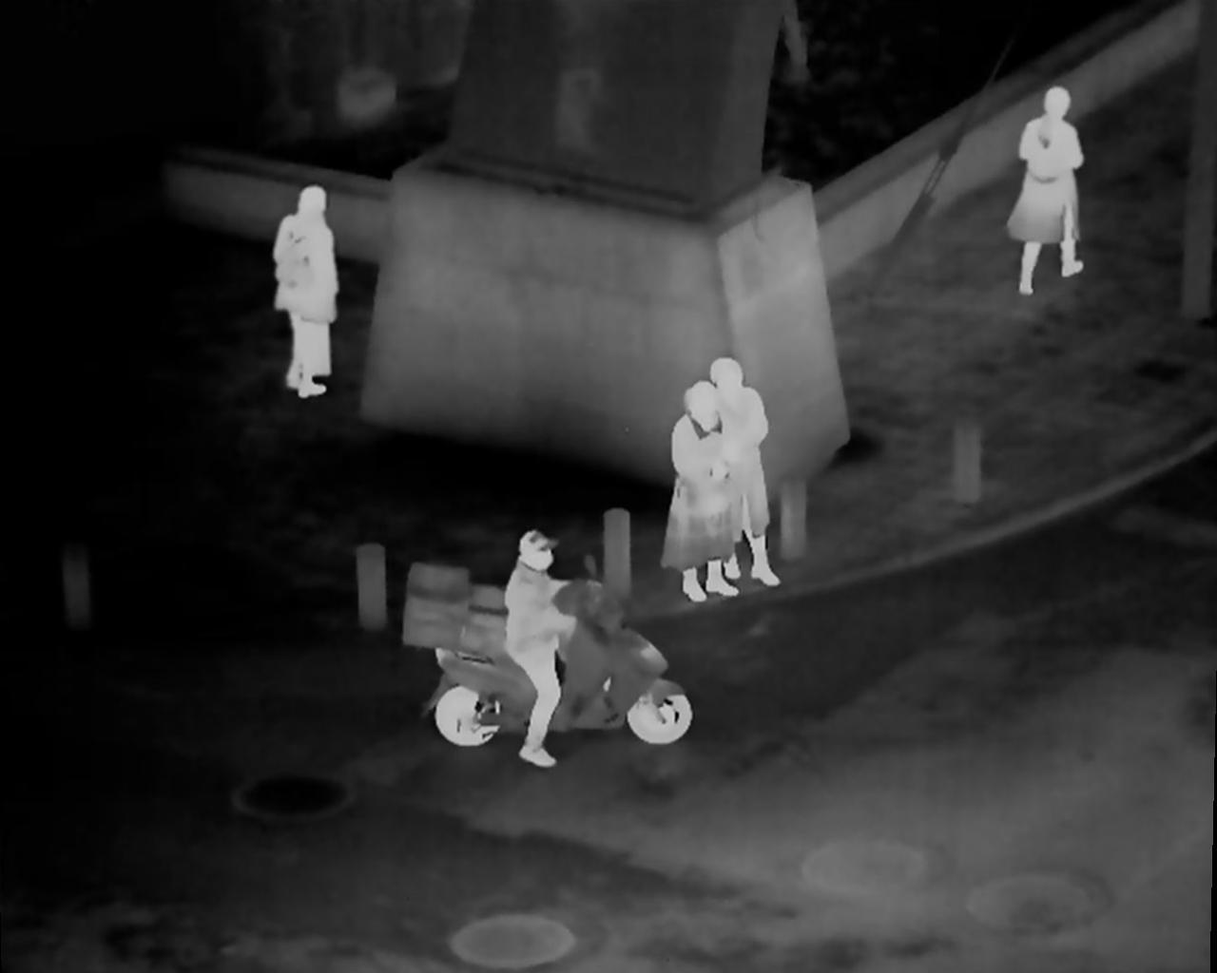person: (1010, 83, 1088, 295), (509, 529, 575, 767), (710, 359, 777, 585), (275, 186, 343, 399), (674, 383, 734, 601)
